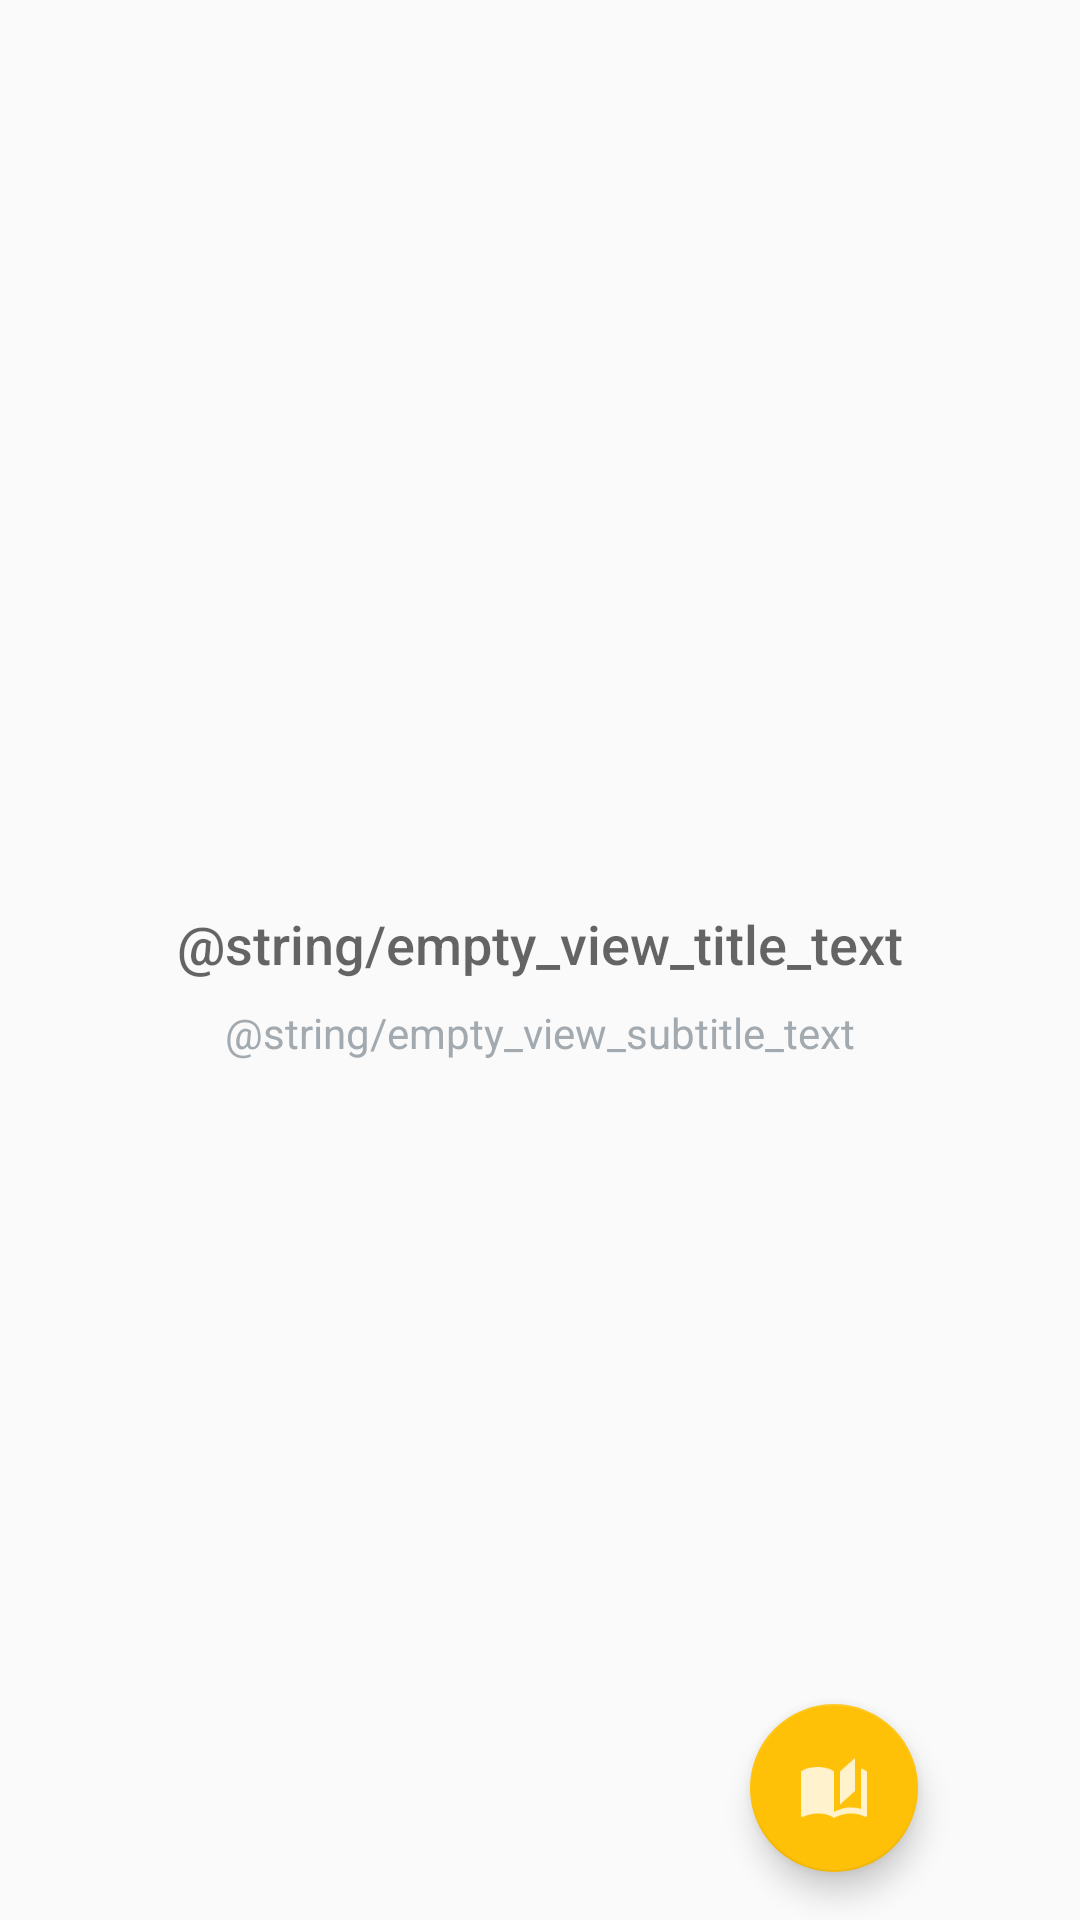

Locate icon controls on the screen. Image size 1080px×1920px, boxes as [x1,y1,x2,y2].
book: [750,1704,918,1872]
